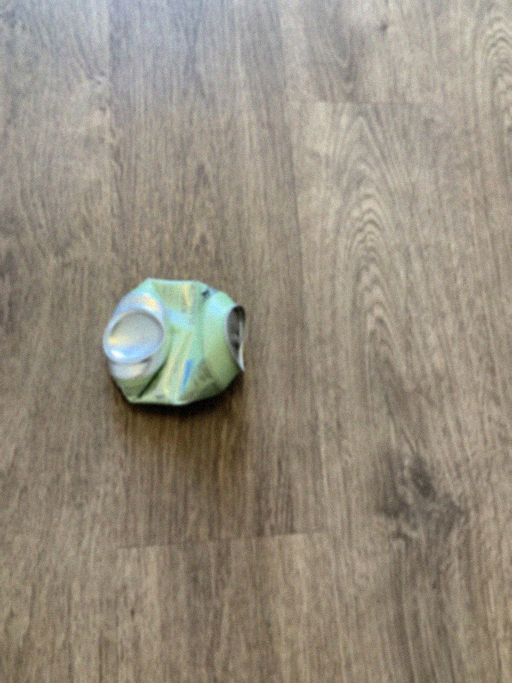can_s: (103, 269, 256, 419)
